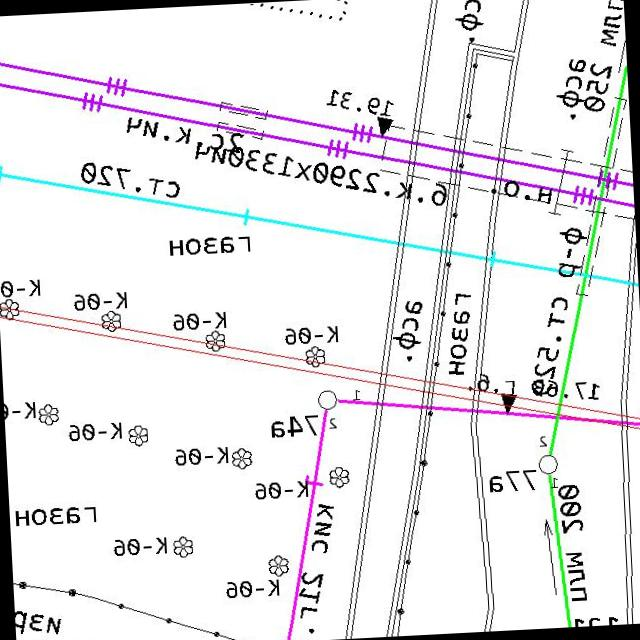asphalt: (389, 298, 426, 364), (554, 57, 590, 121)
bushes: (100, 308, 124, 334), (230, 446, 254, 472), (171, 534, 195, 560), (267, 552, 291, 578), (37, 402, 61, 427), (205, 328, 228, 354), (127, 423, 150, 448), (305, 344, 327, 370), (328, 464, 351, 488), (0, 296, 20, 321)
mark: (375, 115, 397, 138), (500, 391, 520, 415)
well: (536, 452, 561, 476), (316, 388, 340, 412)
